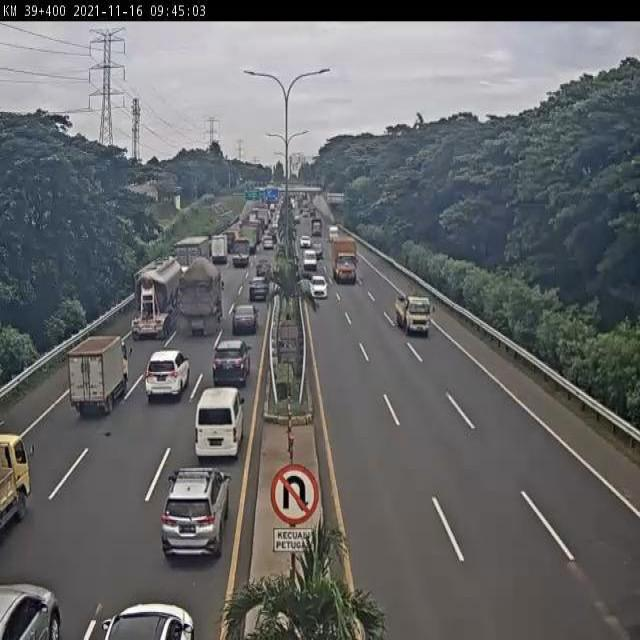car: (160, 472, 228, 565), (212, 342, 253, 394), (144, 351, 190, 397), (230, 303, 260, 337), (248, 277, 269, 304), (253, 259, 271, 284), (309, 275, 327, 297)
small bus: (192, 392, 243, 463)
small truck: (67, 337, 132, 420), (395, 294, 432, 334)
truck-l-: (172, 264, 222, 335), (171, 237, 211, 291)
truck-m-: (330, 235, 356, 282)
truck-xl-: (129, 256, 180, 343)
